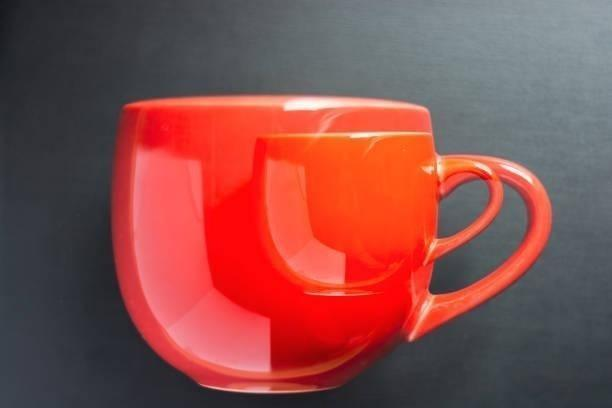cup-handle: (107, 92, 557, 397)
